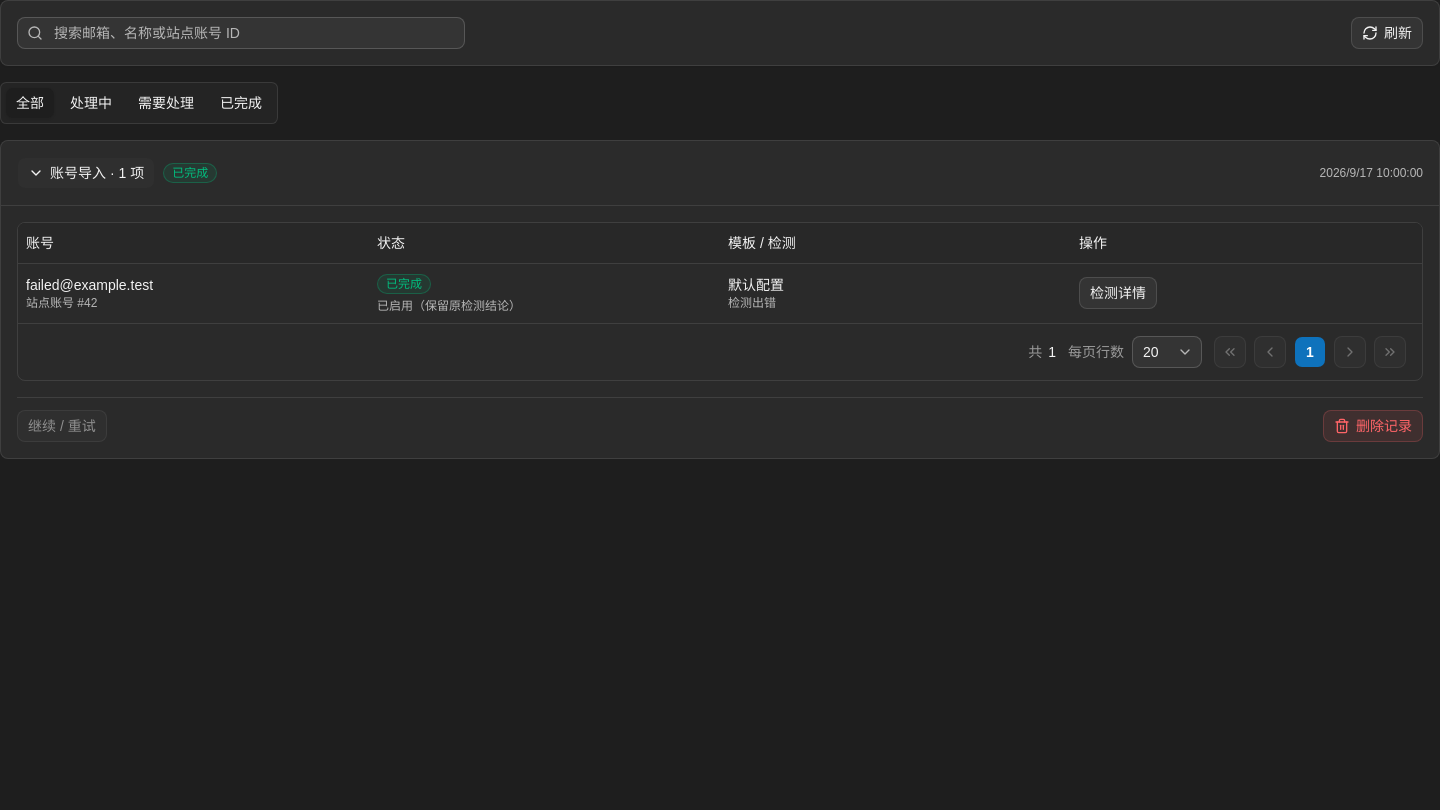
it: 手动启用成功后显示启用结果并可打开原检测错误报告
This screenshot has width=1440, height=810.
Check: the text "已启用（保留原检测结论）" is shown, box top-left (377, 299), bottom-right (521, 313)
Check: the text "检测出错" is shown, box top-left (728, 296), bottom-right (776, 310)
Click the button "检测详情" at (1118, 293), box top-left (1079, 277), bottom-right (1157, 309)
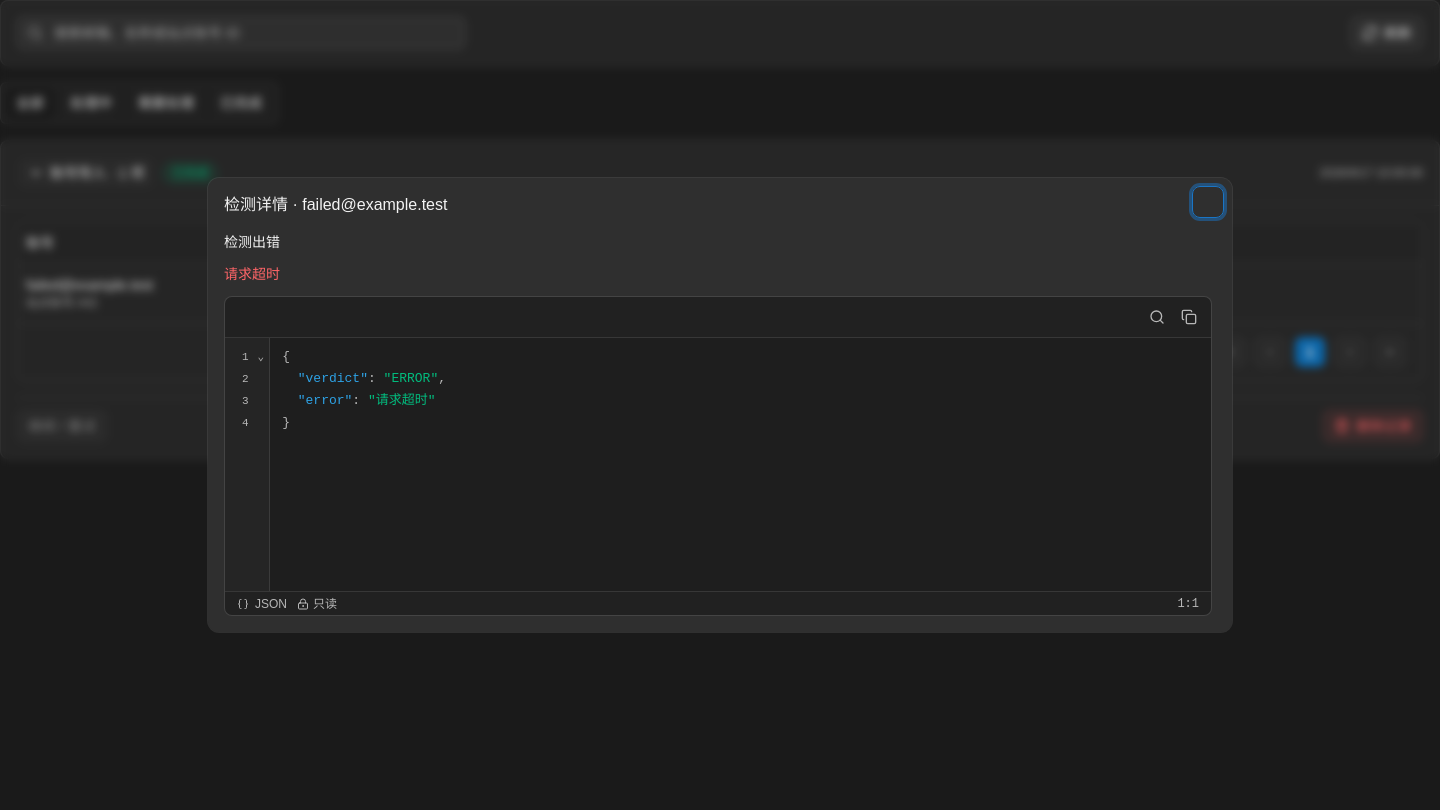
Check: the text "请求超时" is shown, box top-left (224, 266), bottom-right (280, 282)
